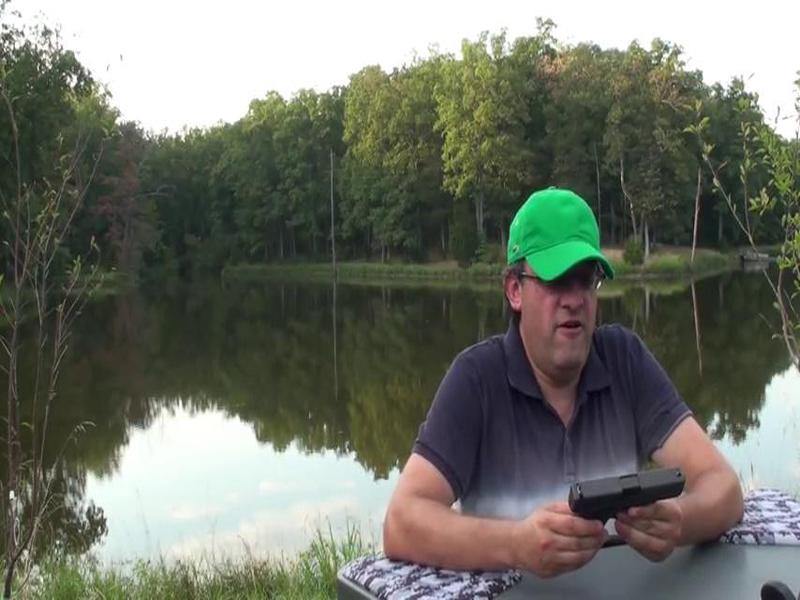Pistola: (557, 442, 697, 566)
